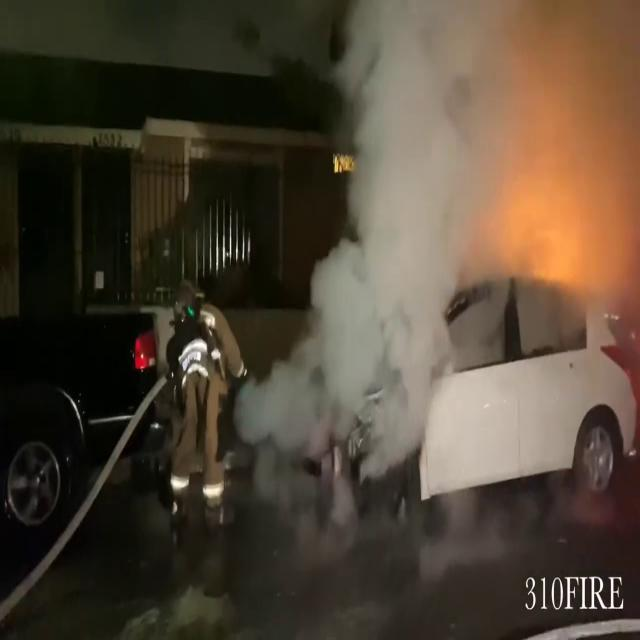Smoke: (246, 1, 640, 478)
